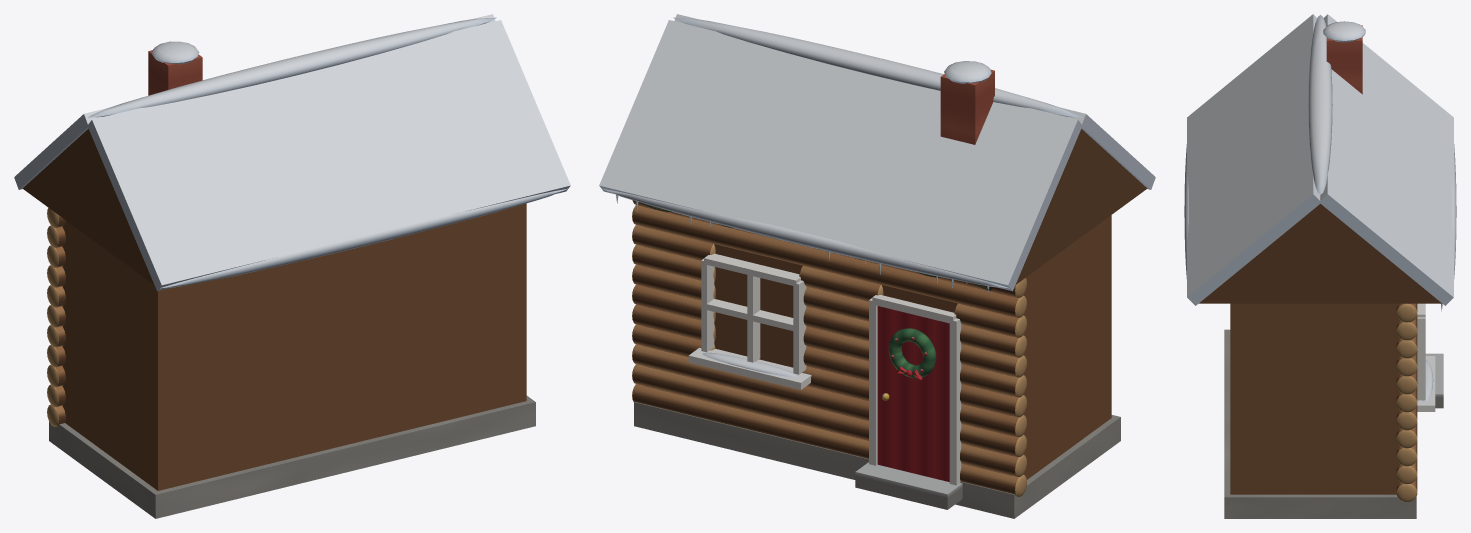
The model's file is Xmas_Cottage.fbx.
3 renders of one model, left to right at view 1: azimuth 30°, elevation 25°; view 2: azimuth 150°, elevation 25°; view 3: azimuth 270°, elevation 25°, orthographic. The views are drawn at different scales.
Visible parts, largest first — view 1: Xmas_Cottage; view 2: Xmas_Cottage; view 3: Xmas_Cottage.
Part boxes in pixels (x1,y1,x2,y2): Xmas_Cottage: (14, 14, 570, 518); Xmas_Cottage: (599, 14, 1155, 518); Xmas_Cottage: (1184, 14, 1456, 518).
Bounding box in the file's own units: 71 × 66.7 × 45.31.
